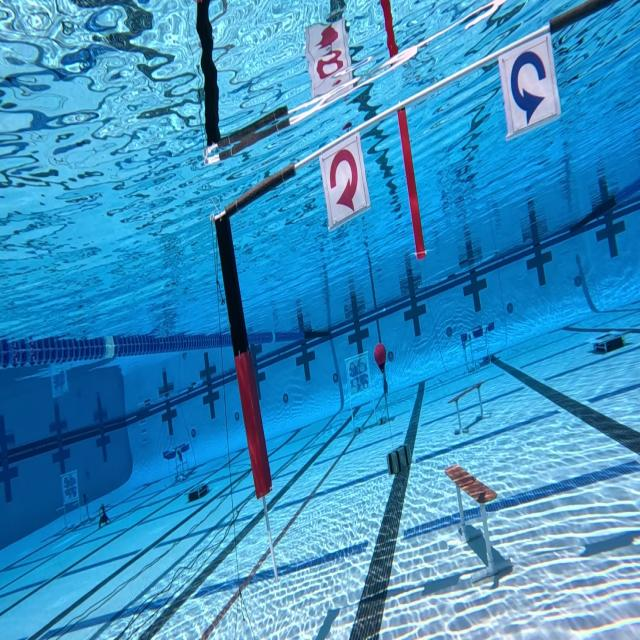blue_side: (497, 33, 562, 142)
red_side: (319, 131, 371, 232)
